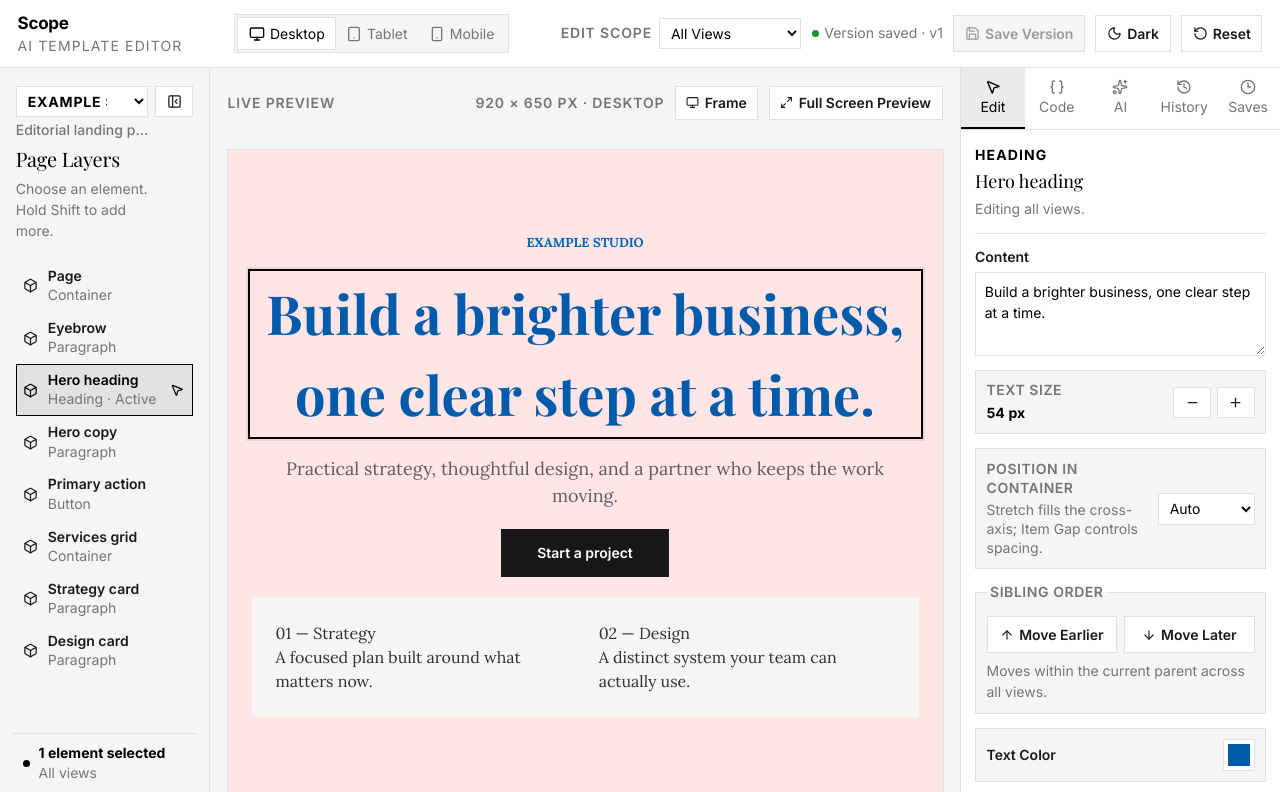
it: allows restoring back to initial baseline after a single edit
What coordinates should you click on to do the following:
click the button named "Increase text size"
I would click on:
 (1236, 402)
Its box is [1216, 386, 1254, 418].
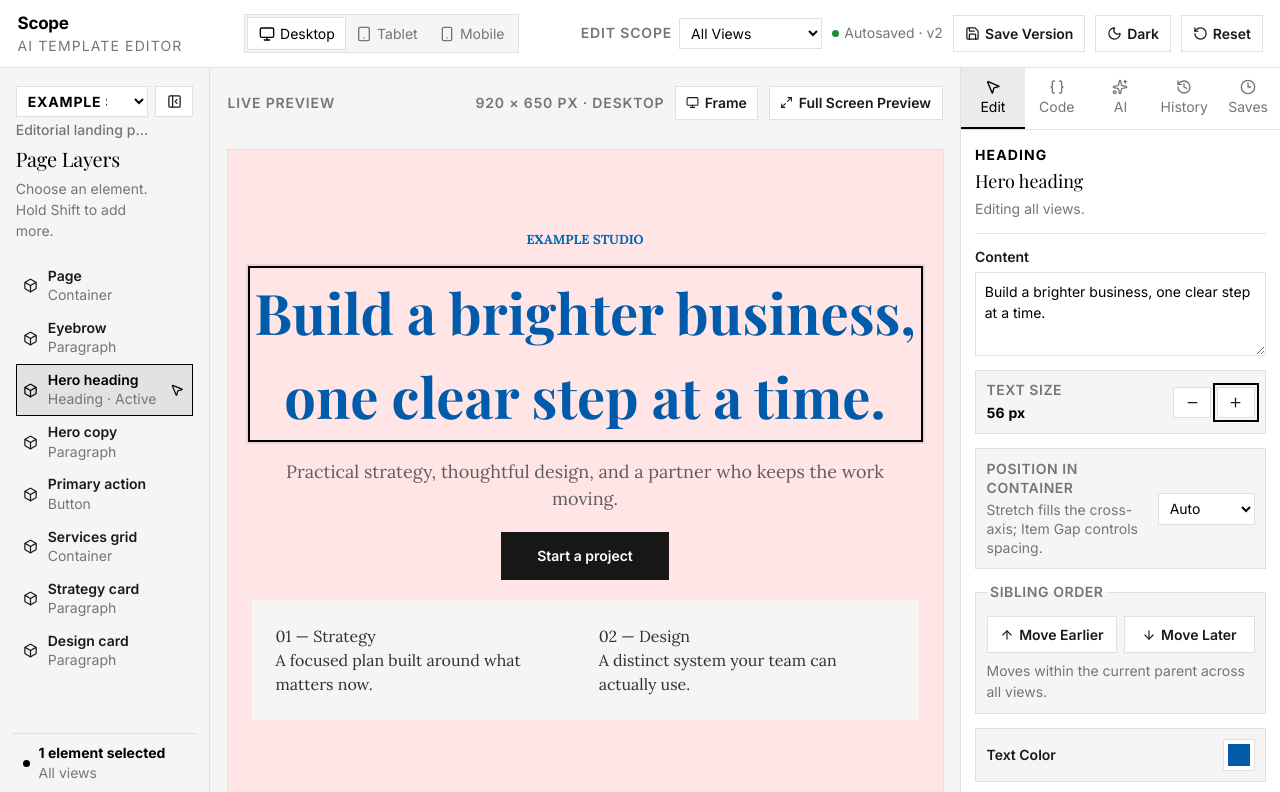
What coordinates should you click on to do the following:
click the tab "History"
I would click on:
 (1184, 99)
Its box is [1152, 68, 1216, 129].
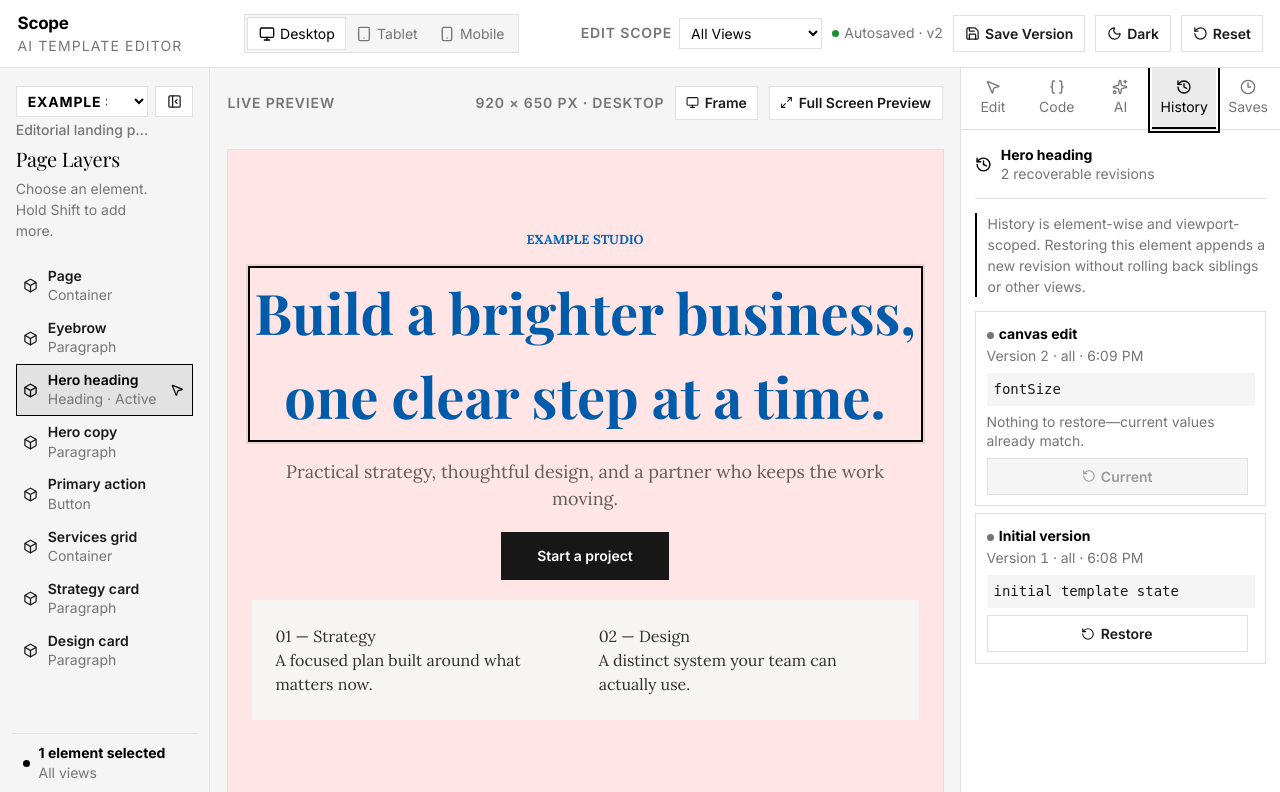
Now the text "Initial version" is shown, box [999, 527, 1090, 544]
Now the button "Restore" is enabled
What coordinates should you click on to do the following:
click the button "Restore"
I would click on:
 (1117, 634)
Its box is [986, 615, 1248, 652].
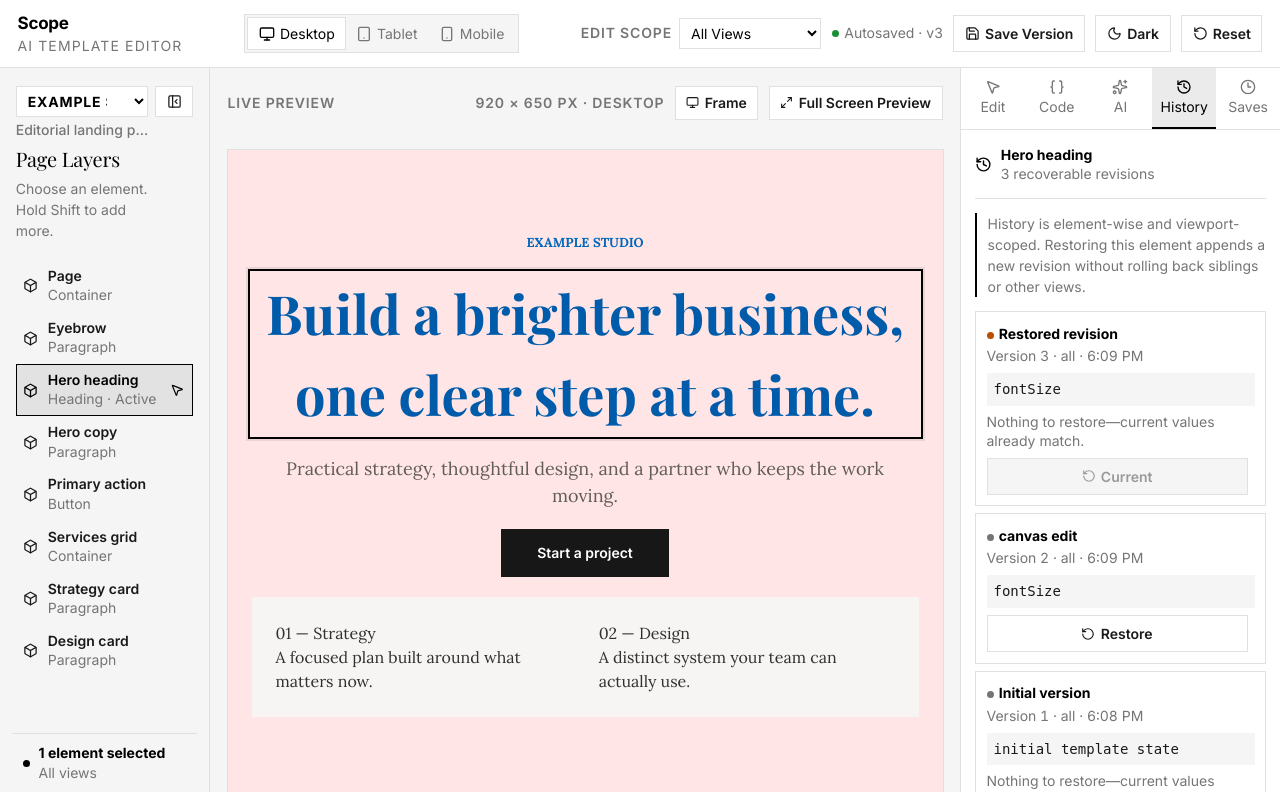
Now the text "Restored revision" is shown, box [999, 325, 1118, 342]
